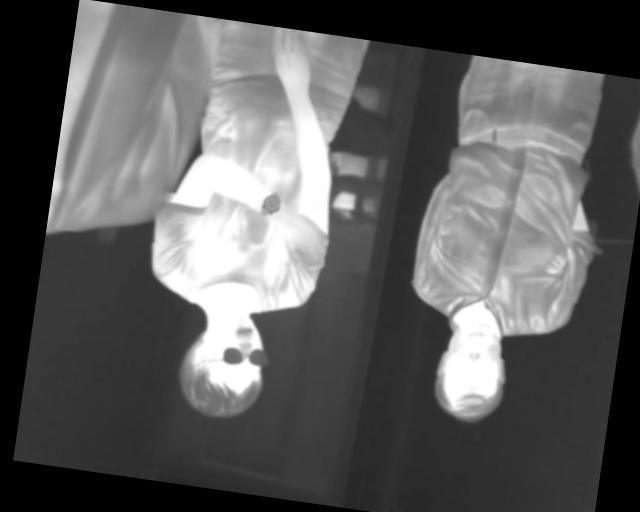face: (173, 304, 273, 424), (429, 313, 516, 429)
